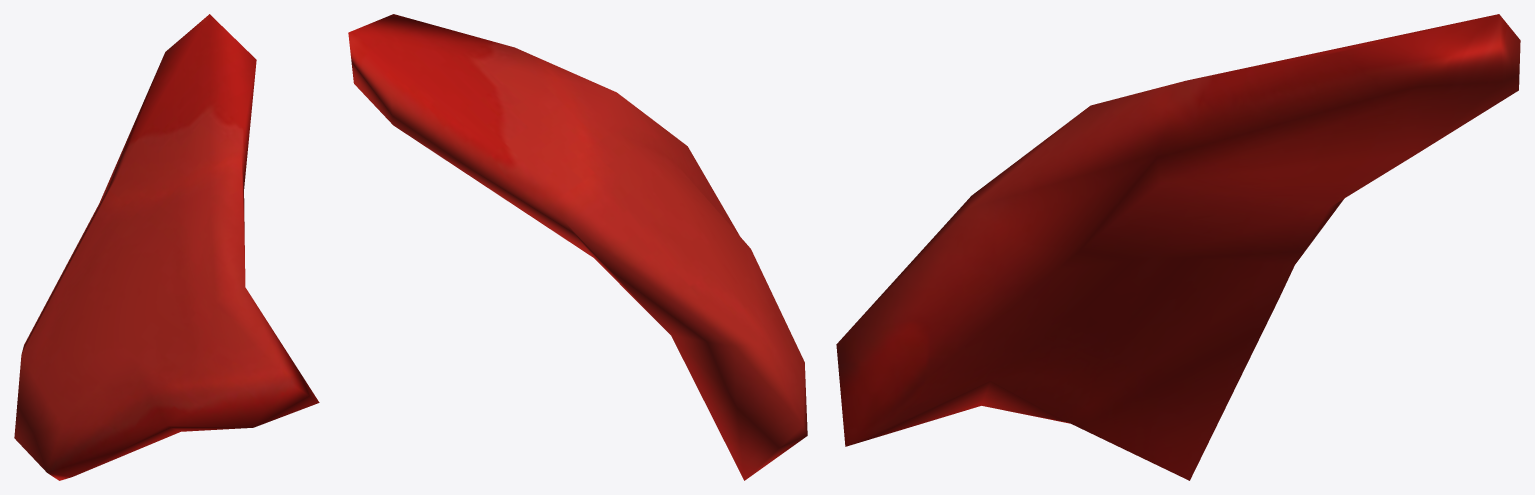
File: Face_Mucle_11.glb
The picture shows the model from 3 angles, left to right: view 1: azimuth 30°, elevation 25°; view 2: azimuth 150°, elevation 25°; view 3: azimuth 270°, elevation 25°; orthographic projection. The views are drawn at different scales.
Visible parts, largest first — view 1: Face_Mucle_11; view 2: Face_Mucle_11; view 3: Face_Mucle_11.
Part boxes in pixels (left/top/right/bottom): Face_Mucle_11: left=14, top=14, right=319, bottom=480; Face_Mucle_11: left=348, top=14, right=807, bottom=480; Face_Mucle_11: left=836, top=14, right=1520, bottom=480.
Size of the model in its own units: 0.0589 by 0.07 by 0.0634.
Materials: 1 (1 with a texture image).
